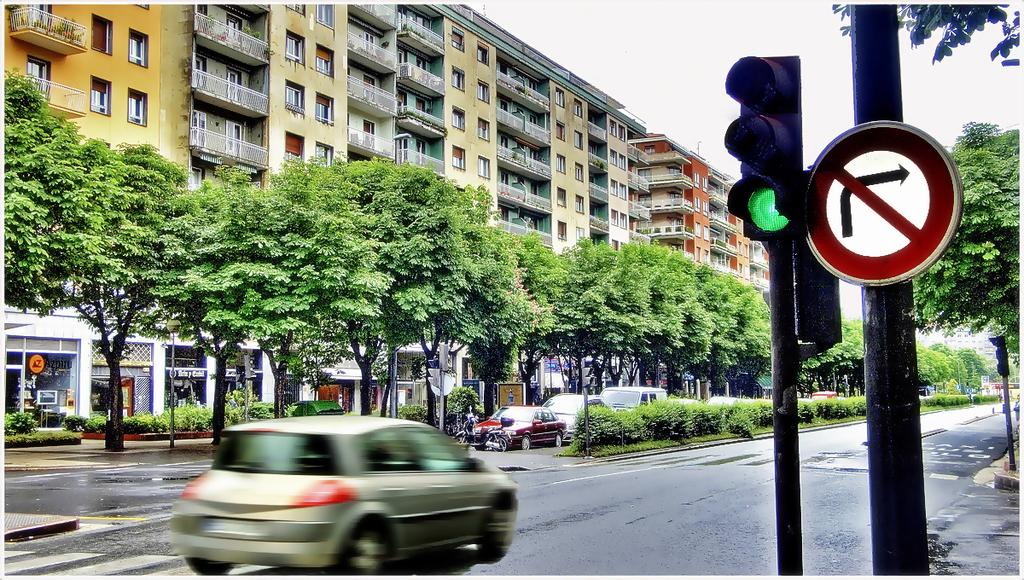green_light: (732, 56, 803, 238)
